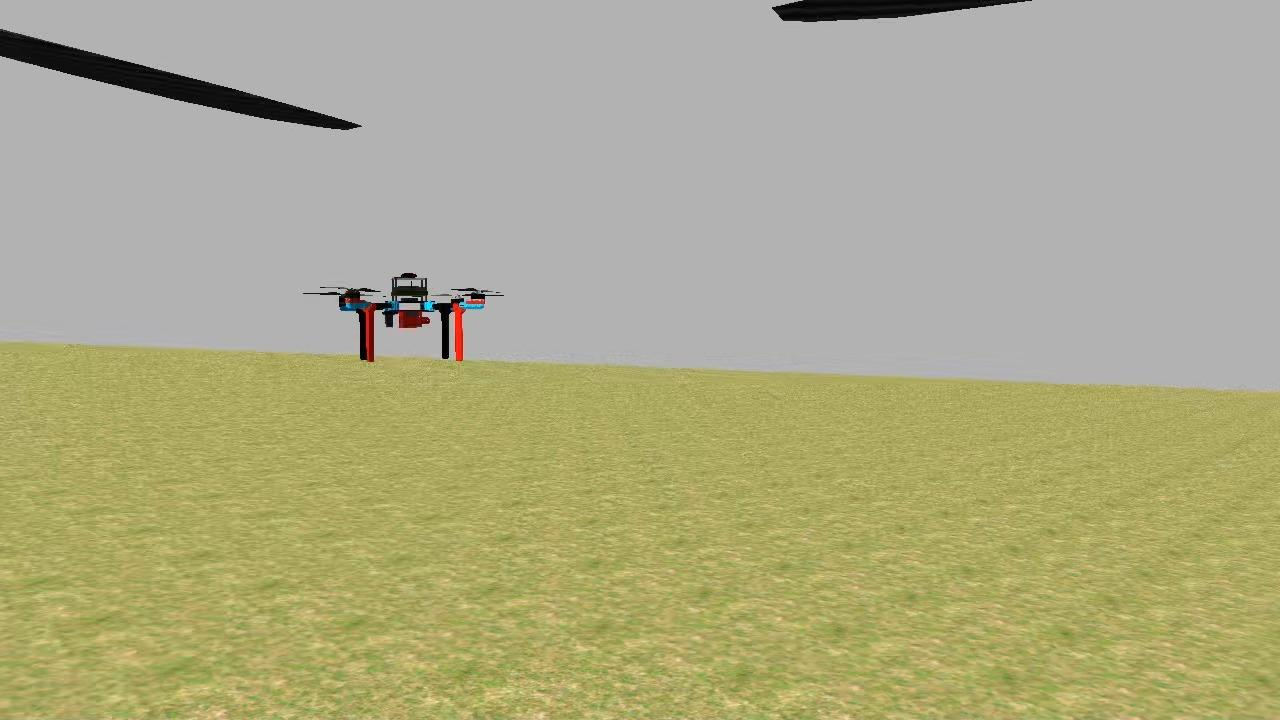UAV: (330, 267, 494, 377)
